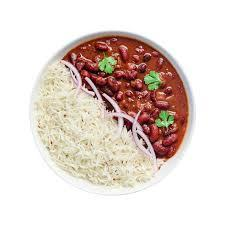rajma: (88, 28, 182, 145)
rice: (36, 73, 117, 180)
